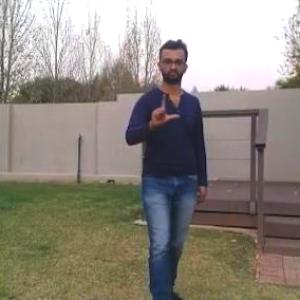land_hand: (147, 88, 180, 128)
